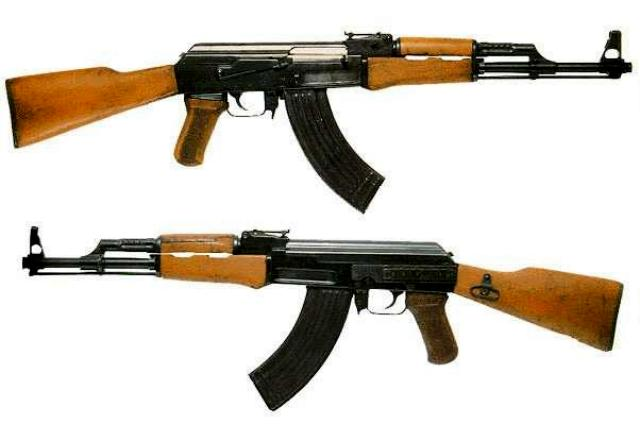rifle: (20, 206, 640, 414), (7, 3, 639, 207)
